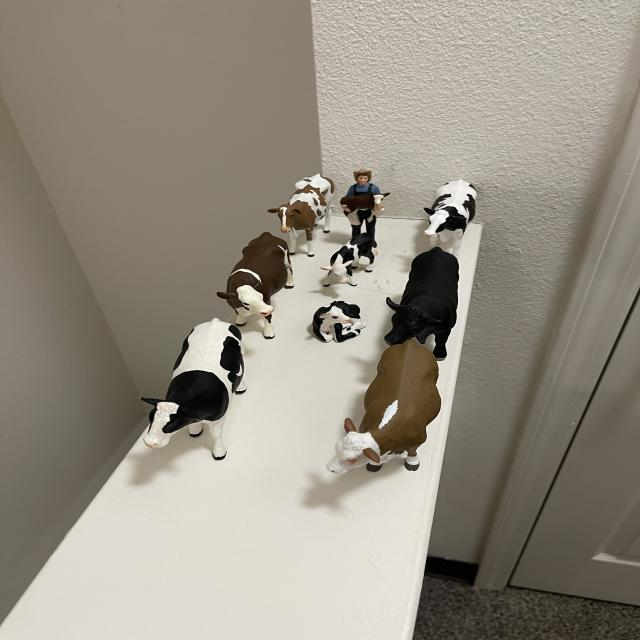cow: (325, 327, 461, 501), (141, 308, 264, 470), (208, 224, 315, 343), (383, 239, 474, 360), (257, 163, 361, 267), (411, 171, 485, 257), (319, 228, 389, 295), (305, 293, 369, 352), (339, 185, 393, 217)
person: (345, 169, 380, 196)
